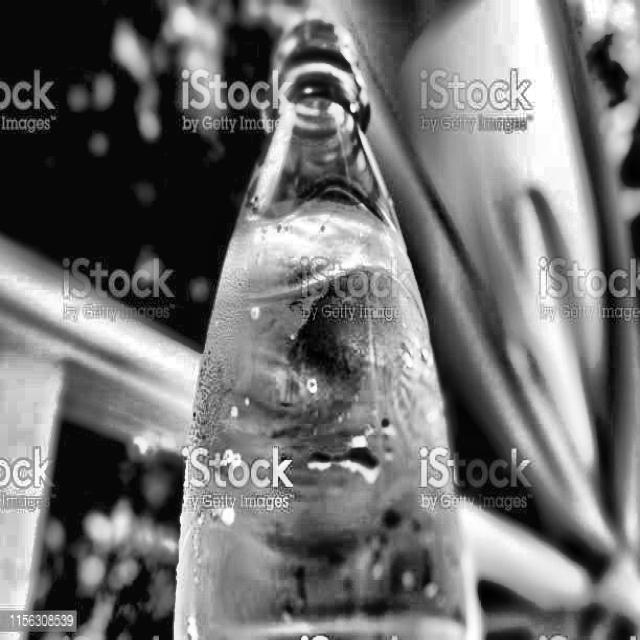waterbottle: (166, 10, 481, 640)
